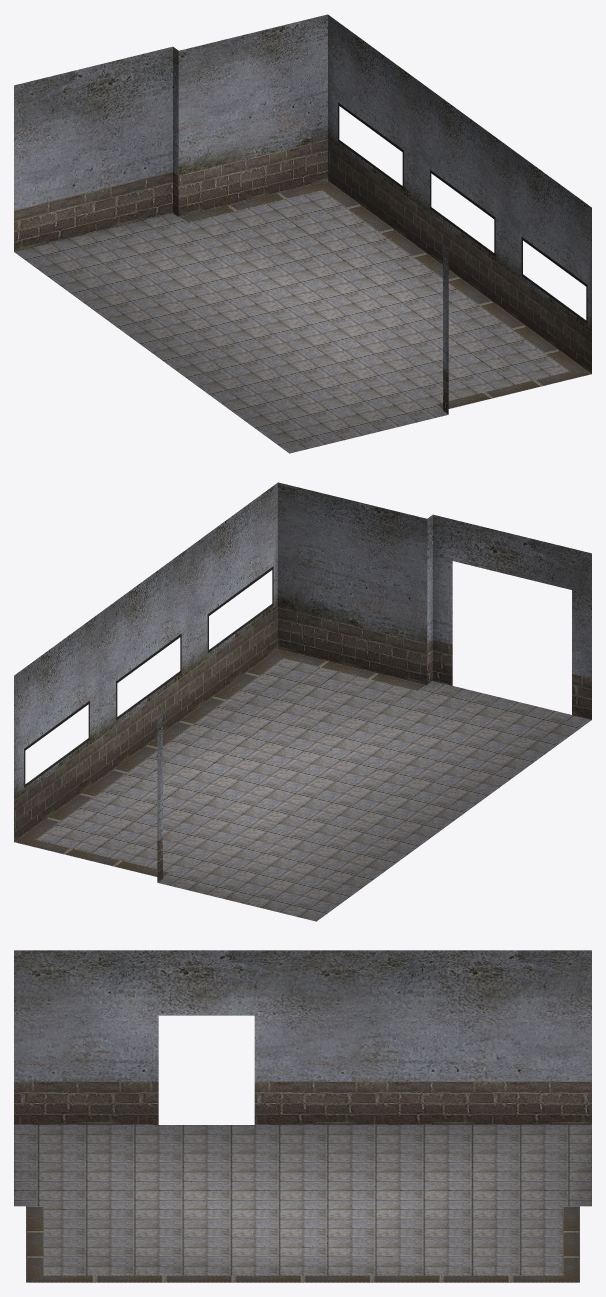
The model's file is M11Z2_SCUDHouse02_B.glb.
The picture shows the model from 3 angles, top to bottom: view 1: azimuth 30°, elevation 25°; view 2: azimuth 150°, elevation 25°; view 3: azimuth 270°, elevation 25°; orthographic projection. The views are drawn at different scales.
Visible parts, largest first — view 1: M11Z2_SCUDHOUSE02_B; view 2: M11Z2_SCUDHOUSE02_B; view 3: M11Z2_SCUDHOUSE02_B.
Part boxes in pixels (<box>): M11Z2_SCUDHOUSE02_B: <box>14,14,591,453</box>; M11Z2_SCUDHOUSE02_B: <box>14,482,591,921</box>; M11Z2_SCUDHOUSE02_B: <box>14,950,591,1282</box>.
Bounding box in the file's own units: 7.75 × 4 × 12.
7 materials, 7 textured.
